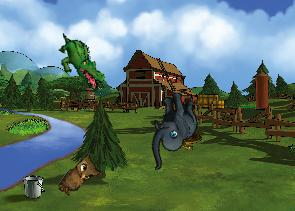crocodile: (46, 31, 115, 92)
elephant: (135, 88, 208, 170)
owl: (56, 150, 105, 204)
